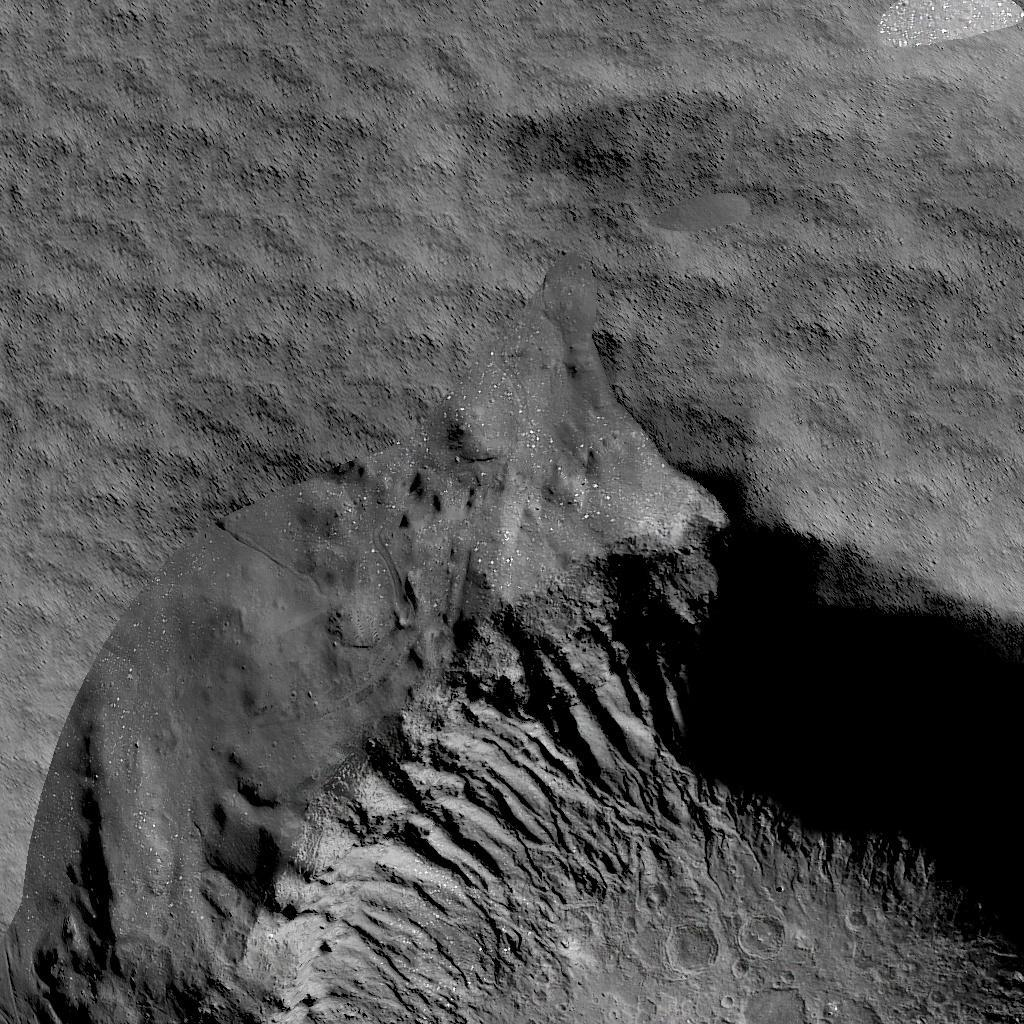Crater: (0, 418, 1024, 1024)
Plan surface: (0, 0, 1024, 403)
